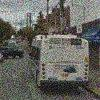buses: (27, 32, 93, 89)
